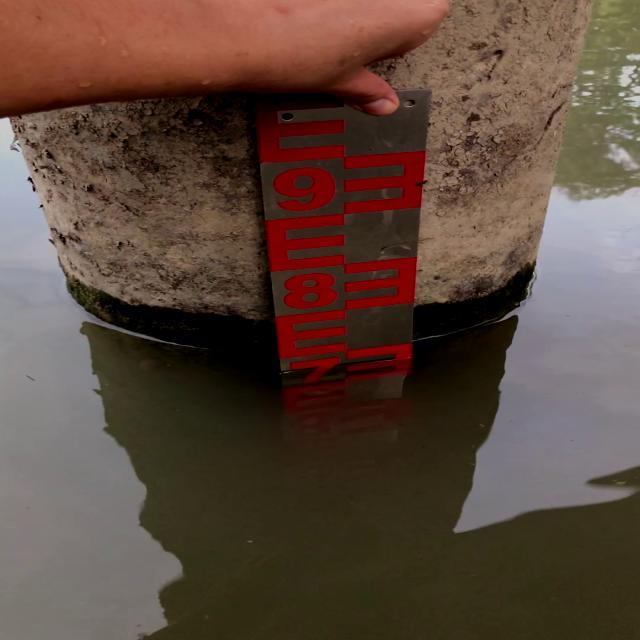ruler: (230, 84, 457, 388)
value: (256, 157, 348, 220), (271, 264, 350, 318)
